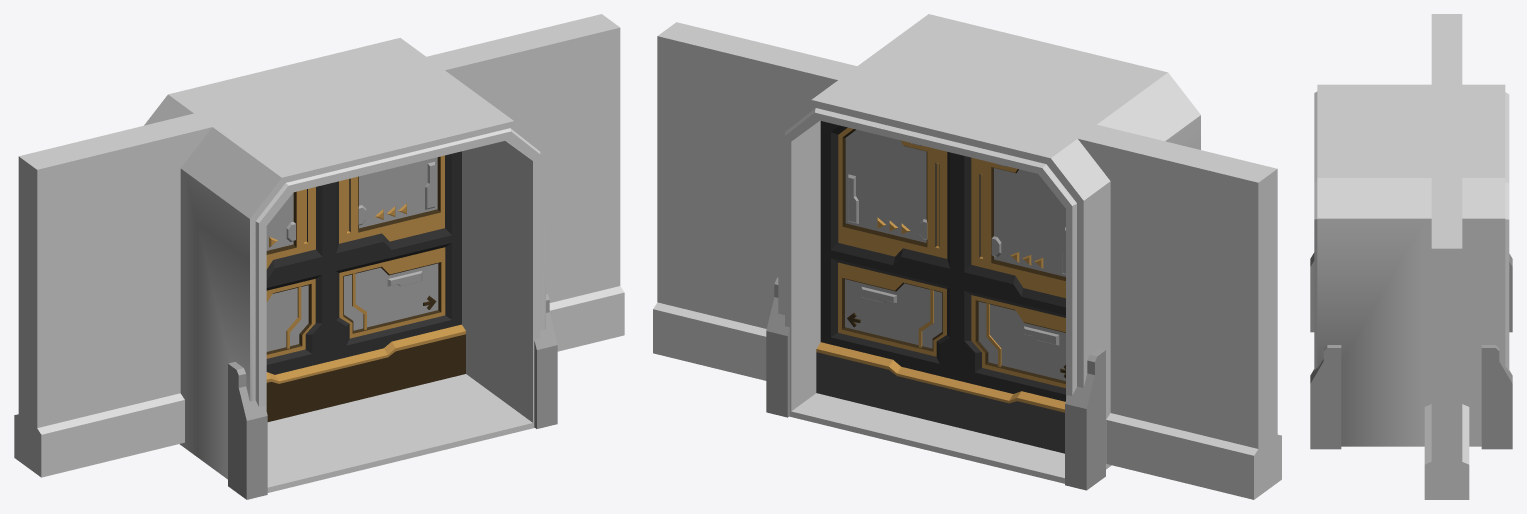
File: Doppeltuer.fbx
3 renders of one model, left to right at view 1: azimuth 30°, elevation 25°; view 2: azimuth 150°, elevation 25°; view 3: azimuth 270°, elevation 25°, orthographic. The views are drawn at different scales.
Parts seen in each view (by area): view 1: Doppeltuerrahmen, Doppeltuerrahmen-innen, Doppeltuer-rechts, Doppeltuer-links; view 2: Doppeltuerrahmen-innen, Doppeltuerrahmen, Doppeltuer-rechts, Doppeltuer-links; view 3: Doppeltuerrahmen, Doppeltuerrahmen-innen.
Boxes of the visible parts, x1,y1,x2,y2 form: Doppeltuerrahmen: (144,38,557,499); Doppeltuerrahmen-innen: (14,14,624,477); Doppeltuer-rechts: (329,151,465,405); Doppeltuer-links: (266,184,333,421); Doppeltuerrahmen-innen: (653,22,1281,499); Doppeltuerrahmen: (766,14,1200,490); Doppeltuer-rechts: (816,121,957,426); Doppeltuer-links: (953,154,1065,453); Doppeltuerrahmen: (1310,84,1512,449); Doppeltuerrahmen-innen: (1424,14,1469,499).
Size of the model in its own units: 4.29 by 1.56 by 2.18.
